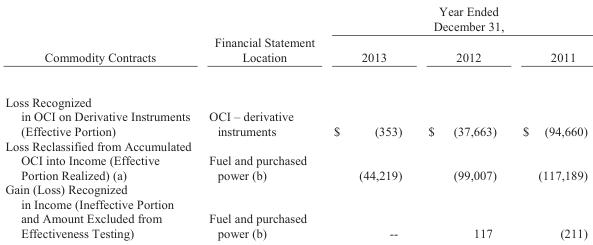table: (4, 3, 586, 239)
table column: (4, 3, 199, 239), (199, 3, 323, 239), (414, 3, 508, 239), (323, 3, 414, 239), (508, 3, 586, 239)
table column header: (4, 3, 586, 79)
table row: (4, 79, 586, 137), (4, 181, 586, 239), (4, 137, 586, 181), (4, 3, 586, 41), (4, 41, 586, 79)
table spanning cell: (4, 3, 199, 79), (323, 3, 586, 41), (199, 3, 323, 79)
